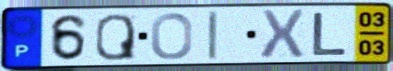6: (47, 13, 88, 63)
I: (206, 9, 220, 62)
L: (310, 10, 350, 57)
O: (149, 11, 195, 61)
Q: (94, 12, 138, 62)
X: (258, 8, 306, 61)
